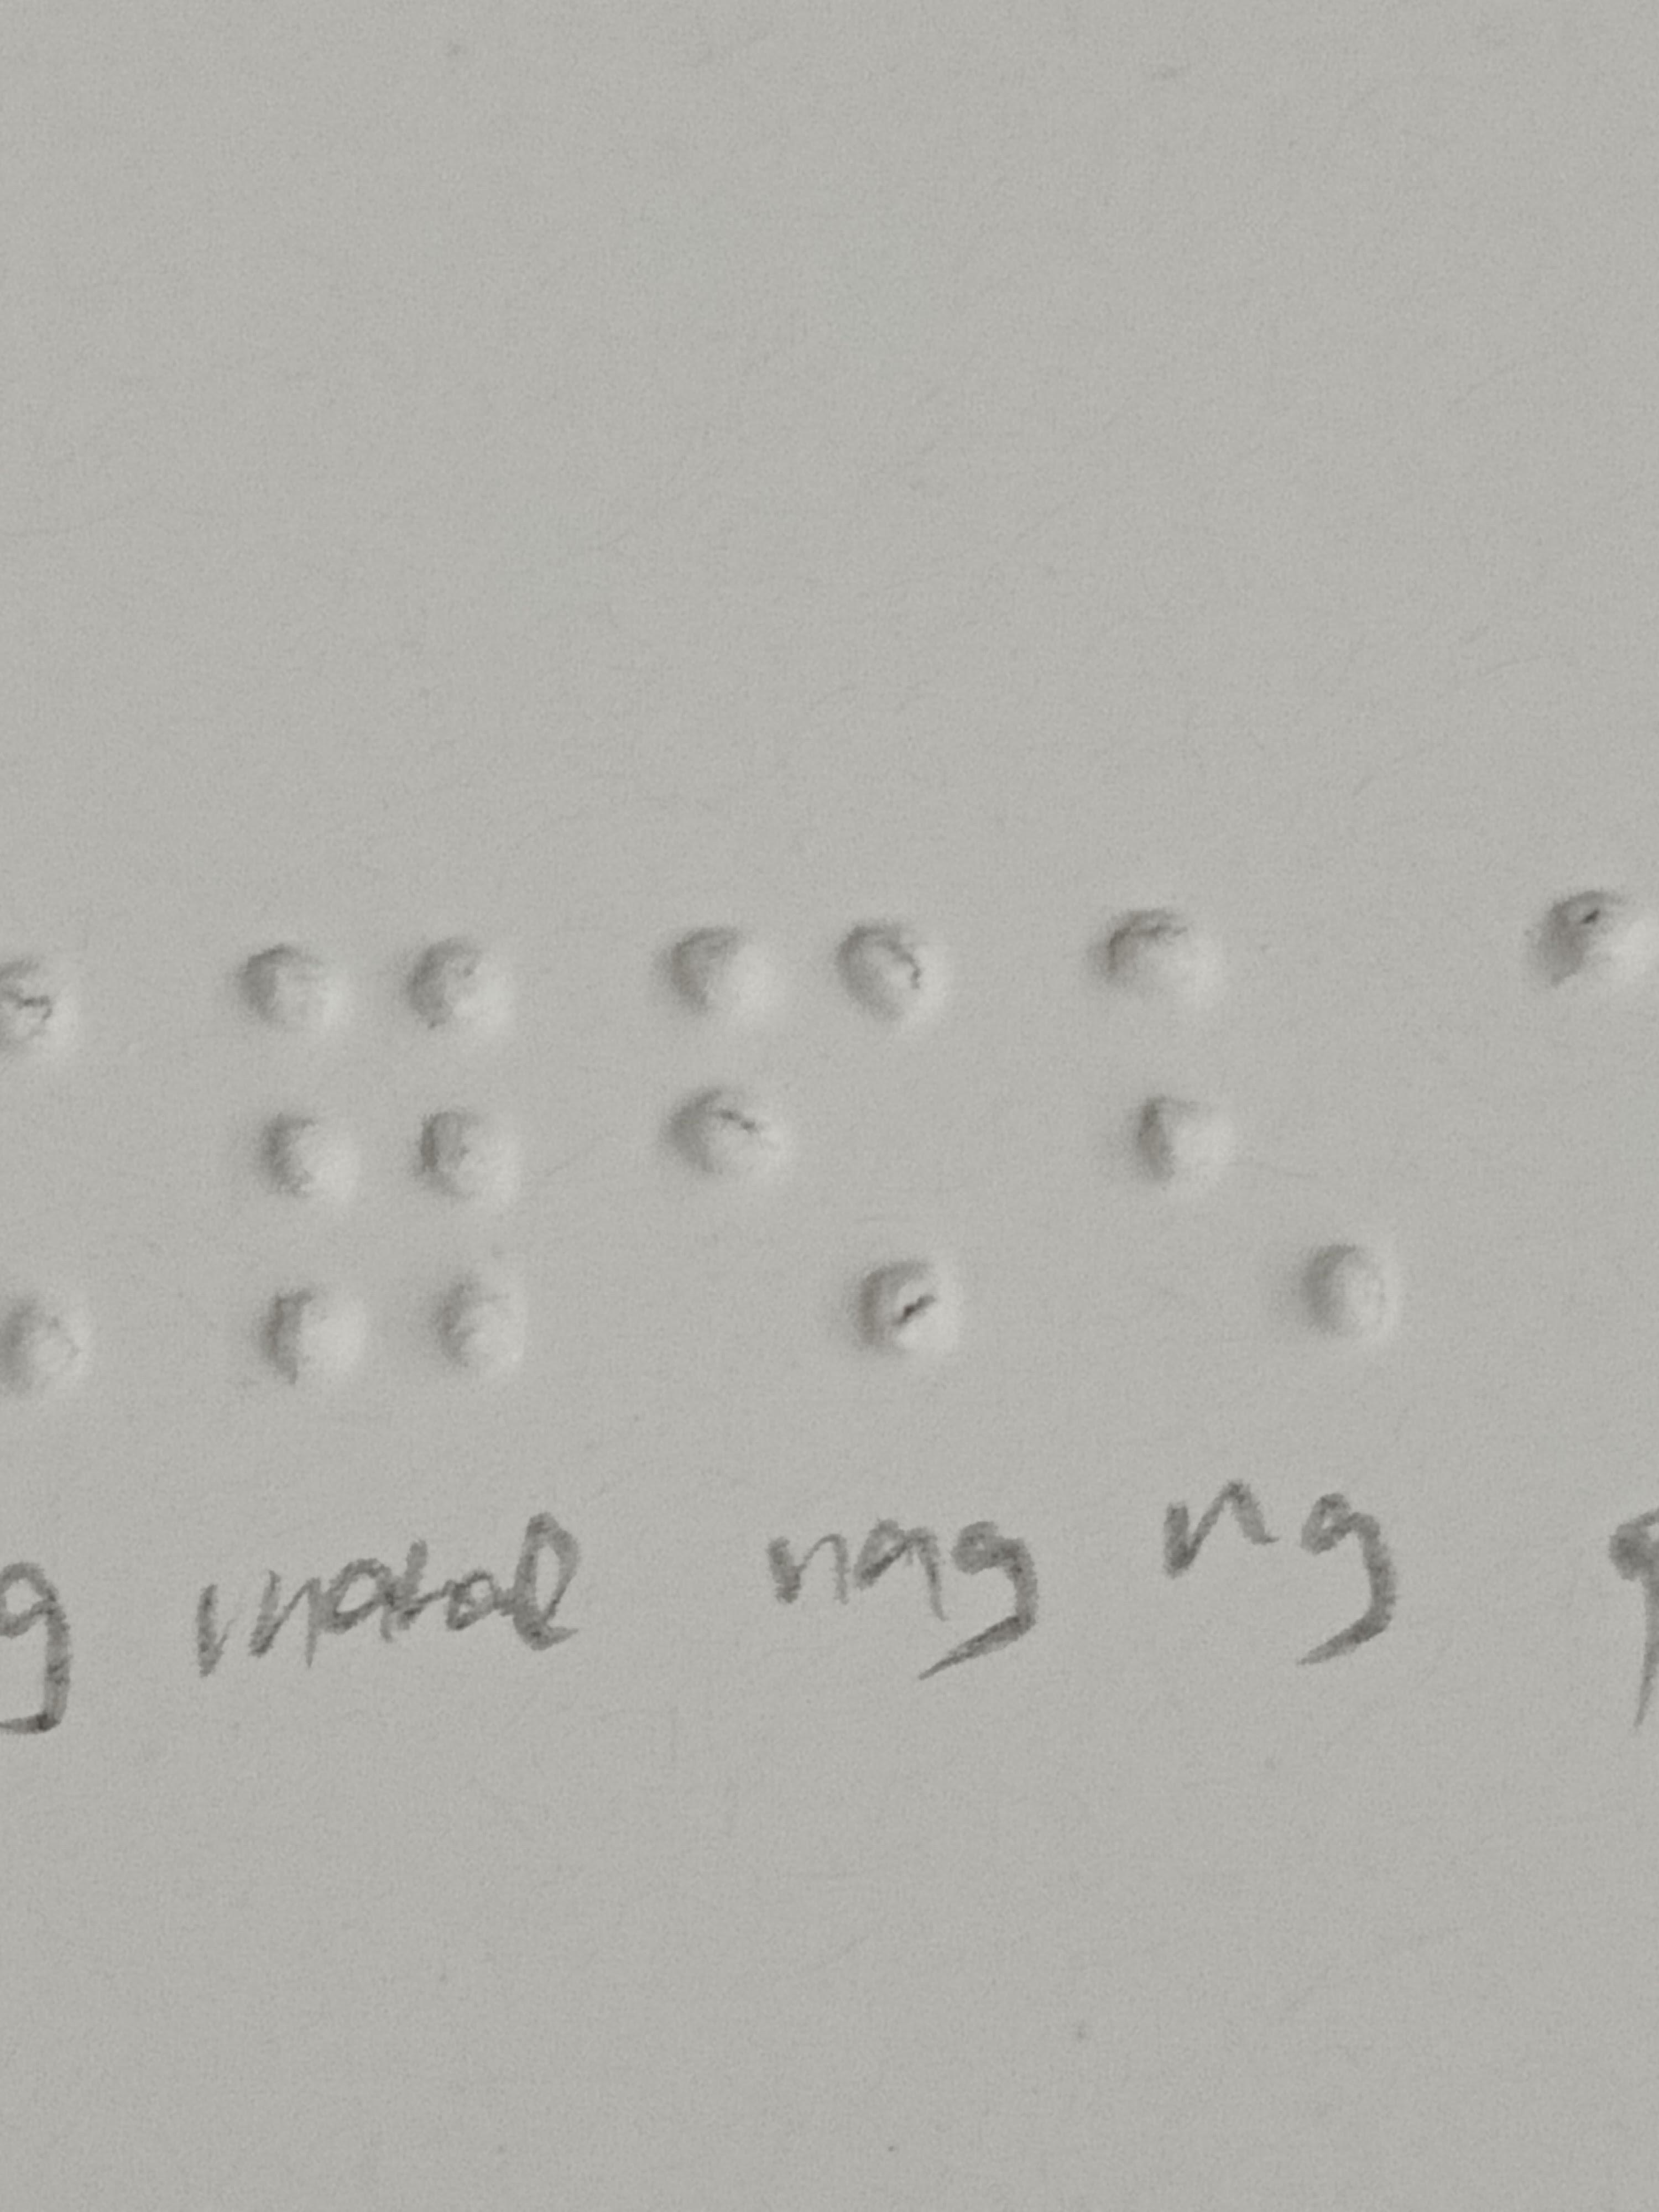one_cell_part_word_mahal: (239, 925, 526, 1397)
one_cell_part_word_nag: (664, 916, 951, 1388)
one_cell_part_word_ng: (1101, 911, 1389, 1383)
